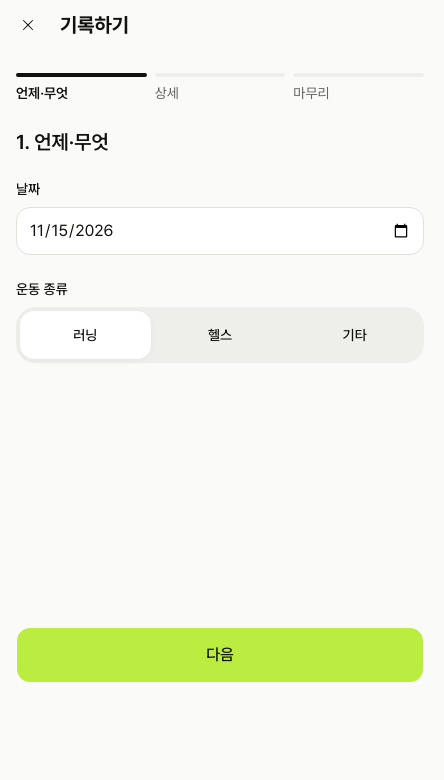
Test: WorkoutForm 사진 › 서명 URL을 못 만든 사진도 자리를 차지하고 뺄 수 있다
The width and height of the screenshot is (444, 780).
Later steps or results of the test are not shown.
Click the button "기타". click: (355, 335)
box: 289,311 -> 420,359
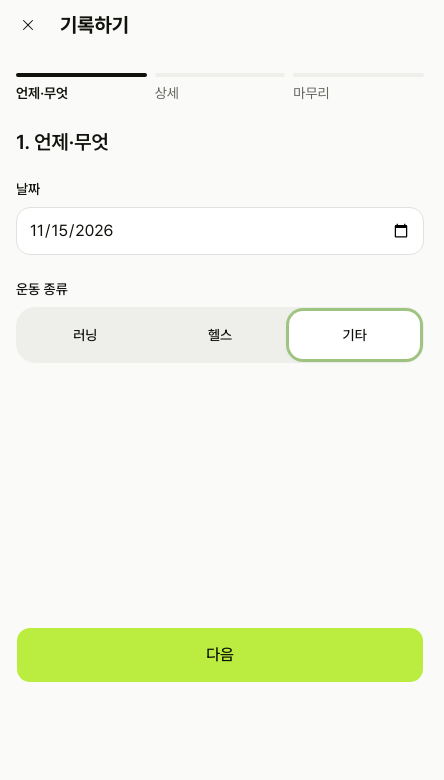
Click the button "다음". click: (220, 655)
box: 16,627 -> 424,683
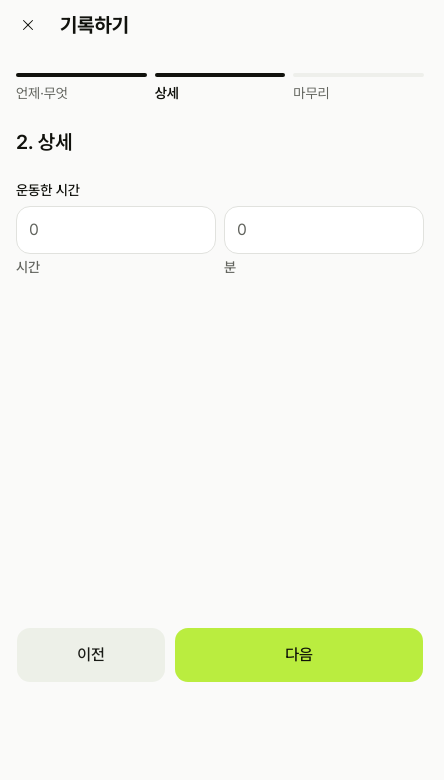
Type "30" into the field labelled "분". click: (324, 230)
box: 224,206 -> 424,254
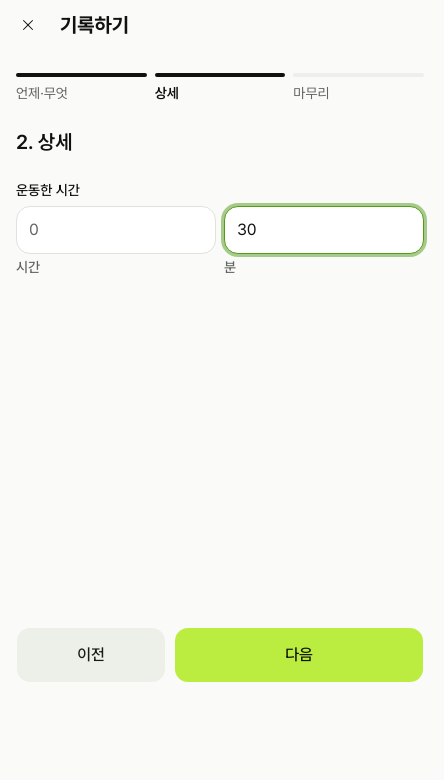
Click the button "다음". click: (299, 655)
box: 174,627 -> 424,683
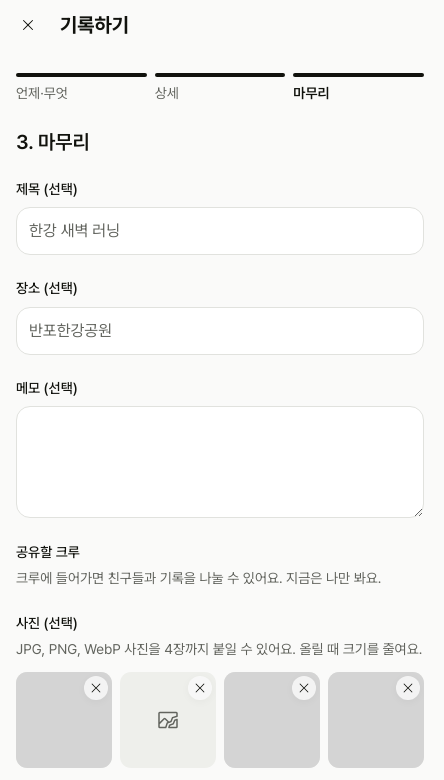
Expected: the picture named "고른 사진 2 (미리보기를 불러오지 못함)" is shown, 156,708 -> 180,732
